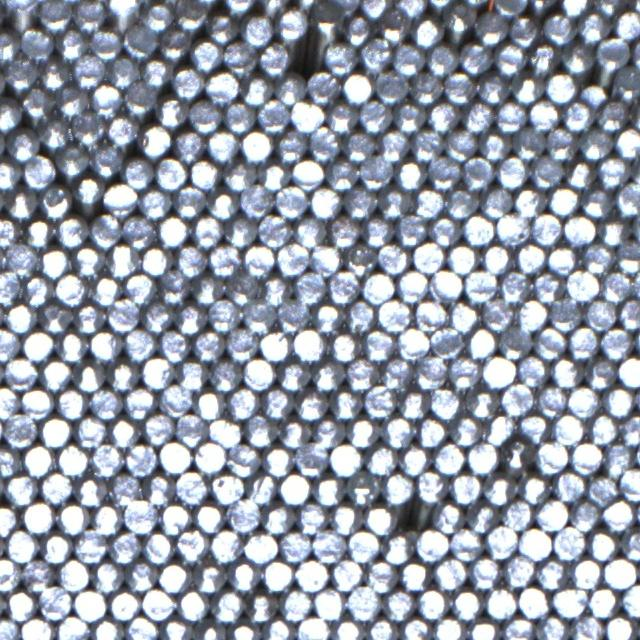tool: (70, 111, 104, 146), (3, 413, 37, 447), (596, 154, 630, 188), (155, 213, 189, 247), (158, 439, 192, 473), (4, 55, 38, 89), (409, 70, 443, 104), (484, 524, 518, 558), (362, 383, 396, 417), (192, 559, 226, 593), (256, 213, 290, 247), (595, 38, 629, 72), (206, 70, 240, 104), (432, 556, 466, 590), (374, 68, 408, 102), (359, 37, 393, 71), (413, 297, 447, 331), (56, 144, 90, 178), (412, 354, 446, 388), (560, 40, 594, 74), (226, 498, 260, 532), (552, 584, 586, 618), (122, 499, 156, 533), (274, 240, 308, 274), (474, 11, 508, 45), (276, 297, 310, 331), (324, 100, 358, 134), (175, 469, 208, 504), (91, 142, 124, 177), (54, 215, 88, 248), (40, 469, 73, 503), (495, 154, 528, 188), (294, 558, 328, 591), (496, 211, 529, 245), (4, 587, 38, 620), (308, 184, 342, 217), (519, 526, 552, 560), (105, 242, 138, 276), (344, 184, 377, 218), (461, 154, 494, 188), (88, 214, 122, 247), (342, 128, 376, 161), (3, 356, 37, 389), (364, 559, 398, 592), (55, 443, 89, 476), (141, 354, 174, 388), (39, 56, 72, 90), (158, 382, 192, 415), (39, 585, 72, 619), (364, 444, 398, 477), (39, 184, 72, 218), (313, 586, 346, 620), (243, 298, 276, 332), (56, 501, 90, 534), (206, 298, 240, 331), (5, 242, 38, 276), (123, 441, 156, 475), (21, 154, 54, 188), (156, 269, 190, 302), (158, 501, 192, 534), (307, 126, 340, 160), (308, 242, 341, 276), (551, 412, 584, 446), (533, 325, 566, 359), (274, 185, 308, 218), (358, 98, 391, 132), (396, 326, 429, 360), (5, 528, 38, 562), (108, 473, 142, 506), (441, 6, 474, 40), (346, 471, 380, 504), (226, 442, 259, 476), (122, 80, 155, 114), (21, 84, 54, 118), (20, 26, 54, 59), (327, 270, 360, 304), (122, 327, 156, 360), (501, 554, 534, 588), (22, 558, 55, 592), (22, 442, 54, 477), (90, 442, 123, 475), (191, 214, 224, 247), (346, 585, 379, 618), (542, 11, 575, 44), (39, 414, 72, 447), (211, 589, 244, 622), (432, 441, 465, 474), (138, 186, 171, 219), (396, 268, 429, 301), (484, 585, 517, 618), (107, 54, 140, 87), (154, 156, 187, 189), (443, 70, 476, 103), (547, 183, 580, 216), (207, 11, 240, 44), (345, 356, 378, 389), (39, 356, 72, 389), (570, 441, 603, 474), (464, 269, 497, 302), (242, 356, 275, 389), (308, 70, 341, 103), (466, 441, 499, 474), (5, 187, 38, 220), (546, 242, 579, 275), (459, 41, 492, 74), (462, 212, 495, 245), (211, 471, 244, 504), (535, 440, 568, 473), (261, 558, 294, 591), (293, 215, 326, 248), (157, 559, 190, 592), (54, 272, 87, 305), (278, 471, 311, 504), (359, 154, 392, 187), (312, 473, 345, 506), (190, 38, 223, 71), (208, 415, 241, 448), (517, 411, 550, 444), (517, 471, 550, 504), (535, 497, 568, 530), (240, 128, 273, 161), (576, 10, 609, 43), (581, 185, 614, 218), (602, 498, 635, 531), (245, 590, 278, 623), (481, 354, 514, 387), (481, 297, 514, 330), (141, 299, 174, 332), (381, 471, 414, 504), (39, 529, 72, 562), (479, 241, 512, 274), (585, 472, 618, 505), (121, 214, 154, 247), (56, 85, 89, 118), (227, 558, 260, 591), (600, 326, 633, 359), (480, 185, 513, 218), (142, 471, 175, 504), (567, 326, 600, 359), (172, 128, 205, 161), (346, 528, 379, 561), (393, 100, 426, 133), (222, 100, 255, 133), (290, 99, 323, 132), (312, 529, 345, 562), (223, 39, 256, 72), (73, 359, 106, 392), (74, 473, 107, 506), (501, 440, 534, 473), (140, 242, 172, 276), (142, 586, 174, 620), (548, 296, 582, 328), (392, 42, 424, 76), (394, 156, 426, 190), (584, 296, 616, 330), (260, 386, 294, 418), (361, 270, 395, 302), (194, 440, 226, 474), (545, 126, 577, 160), (106, 298, 140, 330), (344, 242, 376, 276), (448, 355, 480, 389), (292, 328, 326, 360), (530, 154, 562, 188), (40, 116, 72, 150), (468, 555, 500, 589), (376, 298, 410, 330), (415, 528, 449, 560), (72, 177, 104, 211), (347, 415, 379, 448), (382, 587, 414, 620), (189, 157, 221, 190), (55, 386, 88, 418), (534, 383, 566, 416), (415, 470, 448, 502), (242, 242, 274, 275), (292, 156, 324, 189), (193, 386, 225, 419), (258, 42, 290, 75), (90, 386, 122, 419), (206, 128, 238, 161), (5, 472, 38, 504), (446, 241, 478, 274), (91, 559, 123, 592), (410, 128, 442, 161), (449, 470, 481, 503), (567, 384, 599, 417), (90, 82, 122, 115), (142, 411, 174, 444), (296, 500, 328, 533), (329, 386, 362, 418), (57, 558, 90, 590), (498, 269, 530, 302), (516, 297, 548, 330), (445, 186, 478, 218), (193, 500, 225, 533), (395, 212, 427, 245), (444, 128, 477, 160), (564, 213, 596, 246), (518, 584, 550, 617), (279, 587, 311, 620), (566, 269, 598, 302), (583, 356, 615, 389), (586, 584, 618, 617), (493, 42, 526, 74), (109, 587, 141, 620), (208, 242, 240, 275), (360, 215, 393, 247), (208, 358, 241, 390), (312, 358, 344, 391), (549, 356, 582, 388), (569, 499, 602, 531), (107, 416, 140, 448), (500, 382, 532, 415), (240, 183, 272, 216), (482, 412, 515, 444), (330, 557, 362, 590), (261, 443, 293, 476), (245, 472, 278, 504), (296, 388, 328, 421), (106, 113, 138, 146), (140, 55, 172, 88), (398, 558, 431, 590), (22, 500, 54, 533), (398, 443, 431, 475), (599, 215, 631, 248), (508, 14, 540, 47), (343, 299, 375, 332), (599, 269, 631, 302), (448, 415, 481, 447), (397, 388, 429, 421), (450, 587, 482, 620), (425, 43, 457, 76), (447, 300, 480, 332), (262, 502, 295, 534), (4, 300, 37, 332), (449, 527, 481, 560), (482, 472, 514, 505), (553, 526, 585, 559), (278, 358, 311, 390), (596, 98, 629, 130), (530, 212, 562, 245), (176, 588, 209, 620), (329, 442, 362, 474), (429, 268, 462, 300), (106, 359, 139, 391), (466, 325, 498, 358), (311, 418, 344, 450), (123, 385, 155, 418), (226, 386, 259, 418), (191, 274, 224, 306), (142, 529, 174, 562), (603, 556, 636, 588), (259, 273, 292, 305), (327, 214, 360, 246), (329, 502, 362, 534), (108, 530, 140, 563), (511, 72, 544, 104), (553, 469, 585, 502), (223, 159, 256, 191), (324, 41, 357, 73), (123, 270, 155, 303), (7, 128, 40, 160), (259, 328, 292, 360), (377, 240, 409, 273), (342, 14, 375, 46), (278, 529, 310, 562), (21, 328, 54, 360), (311, 300, 343, 333), (175, 528, 208, 560), (188, 100, 221, 132), (579, 127, 611, 160), (602, 442, 634, 475), (328, 329, 360, 362), (210, 528, 242, 561), (73, 530, 106, 562), (431, 325, 463, 358), (274, 129, 307, 161), (174, 243, 206, 276), (378, 356, 410, 389), (173, 184, 205, 217), (224, 215, 256, 248), (225, 328, 258, 360), (74, 415, 106, 448), (427, 156, 460, 188), (22, 215, 54, 248), (428, 214, 460, 247), (326, 156, 358, 189), (378, 185, 410, 218), (376, 129, 409, 161), (226, 272, 258, 305), (241, 75, 274, 107), (175, 358, 208, 390), (311, 16, 344, 48), (382, 415, 414, 447), (104, 182, 136, 214), (586, 413, 618, 445), (514, 241, 546, 273), (39, 245, 71, 277), (416, 586, 448, 618), (295, 443, 327, 475), (244, 414, 276, 446), (412, 186, 444, 218), (294, 270, 326, 302), (342, 70, 374, 102), (570, 556, 602, 588), (56, 330, 88, 362), (241, 14, 273, 46), (412, 240, 444, 272), (545, 70, 577, 102), (466, 387, 498, 419), (536, 557, 568, 589), (416, 416, 448, 448), (90, 503, 122, 535), (88, 274, 120, 306), (88, 26, 120, 58), (514, 185, 546, 217), (21, 386, 53, 418), (207, 188, 239, 220), (244, 530, 276, 562), (56, 27, 88, 59), (512, 127, 544, 159), (517, 354, 549, 386), (587, 528, 619, 560), (602, 384, 634, 416), (40, 301, 72, 333), (192, 328, 224, 360), (72, 244, 104, 276), (364, 502, 396, 534), (381, 532, 413, 564), (172, 66, 204, 98), (432, 500, 464, 532), (258, 100, 290, 132), (581, 241, 613, 273), (499, 325, 531, 357), (561, 98, 593, 130), (531, 270, 563, 302), (429, 386, 461, 418), (501, 498, 533, 530), (467, 502, 499, 534), (526, 40, 558, 72), (362, 328, 394, 360), (258, 159, 290, 191), (22, 274, 54, 306), (564, 158, 596, 190), (494, 100, 526, 132), (156, 95, 188, 127), (527, 98, 559, 130), (73, 54, 105, 86), (278, 418, 310, 450), (122, 156, 154, 188), (477, 72, 509, 104), (74, 588, 106, 620), (158, 27, 190, 59), (462, 100, 494, 132), (140, 124, 172, 156), (89, 328, 121, 360), (123, 25, 155, 57), (175, 412, 207, 444), (427, 100, 459, 132), (275, 8, 307, 40), (125, 559, 157, 591), (378, 10, 410, 42), (175, 302, 207, 334), (275, 74, 307, 106), (72, 0, 105, 31), (5, 1, 38, 32), (410, 16, 442, 47), (158, 329, 190, 360), (141, 1, 173, 32), (479, 129, 510, 161), (74, 302, 105, 334), (404, 496, 435, 528), (578, 74, 610, 105), (38, 0, 72, 29), (173, 0, 205, 29), (612, 8, 640, 41), (570, 613, 604, 640), (613, 66, 640, 100), (536, 614, 570, 640), (295, 614, 329, 640), (55, 614, 89, 640), (614, 125, 640, 158), (604, 614, 637, 640), (433, 615, 466, 640), (615, 182, 640, 215), (20, 615, 53, 640), (125, 615, 158, 640), (502, 615, 534, 640), (615, 242, 640, 274), (91, 616, 124, 640), (331, 617, 364, 640), (468, 617, 500, 640), (160, 617, 192, 640), (366, 617, 398, 640), (400, 617, 432, 640), (617, 354, 640, 386), (0, 98, 23, 130), (0, 269, 22, 302), (0, 384, 21, 418), (262, 618, 294, 640), (618, 298, 640, 330), (0, 215, 21, 248), (0, 157, 21, 190), (619, 412, 640, 445), (0, 556, 20, 590), (0, 28, 20, 62), (0, 444, 20, 478), (620, 466, 640, 499), (620, 527, 640, 559), (196, 620, 228, 640), (0, 503, 20, 535), (228, 620, 260, 640), (621, 583, 640, 616), (0, 327, 19, 360), (108, 0, 138, 19), (361, 0, 392, 18), (560, 0, 592, 17), (395, 0, 426, 17), (492, 0, 524, 16), (594, 0, 626, 16), (328, 0, 360, 15), (0, 617, 20, 640)
